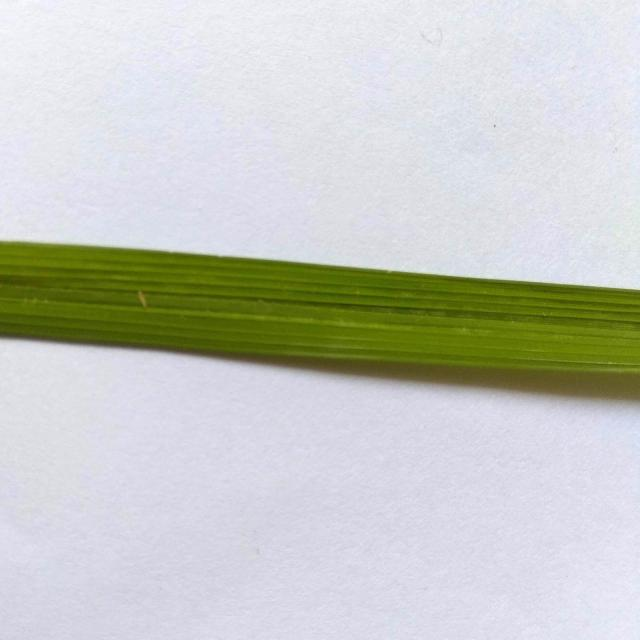healthy: (0, 183, 640, 408)
